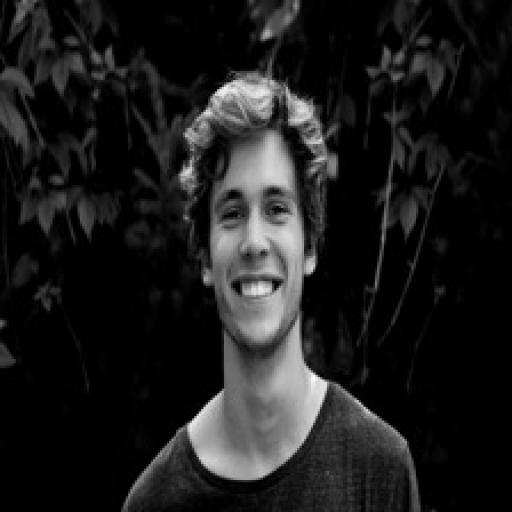human: (123, 66, 422, 512)
